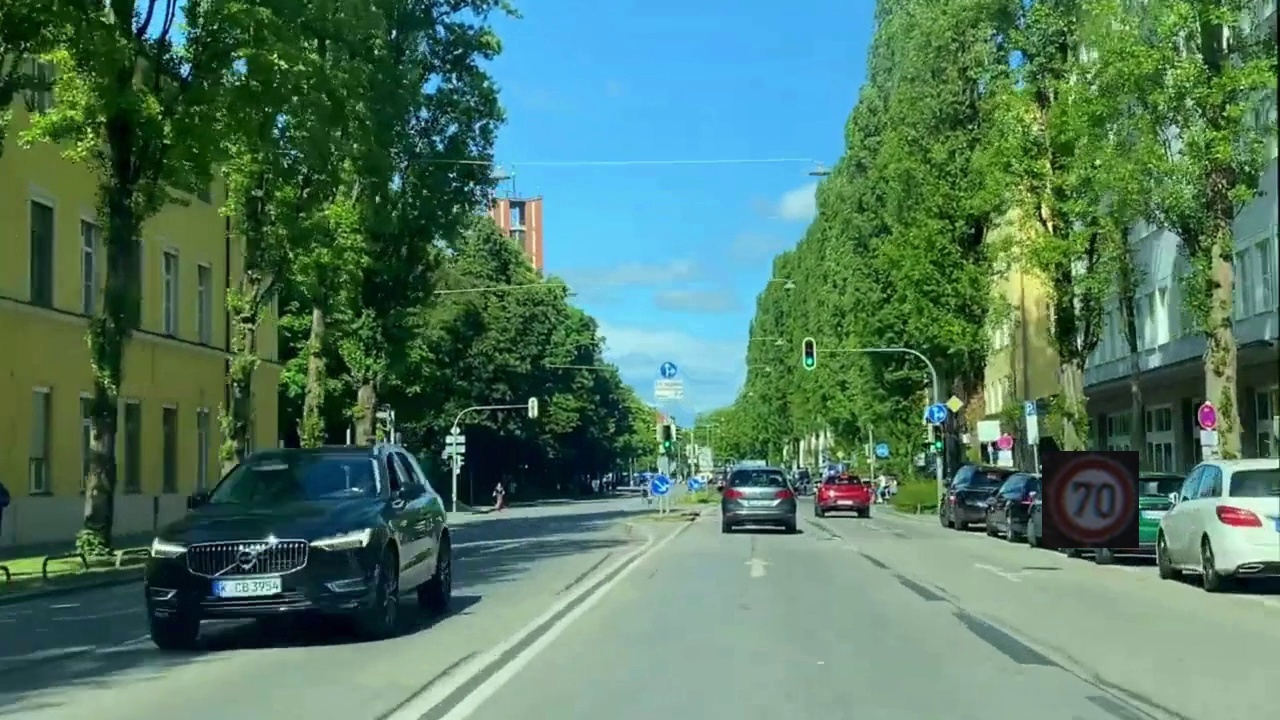Speed 70: (1042, 451, 1139, 548)
